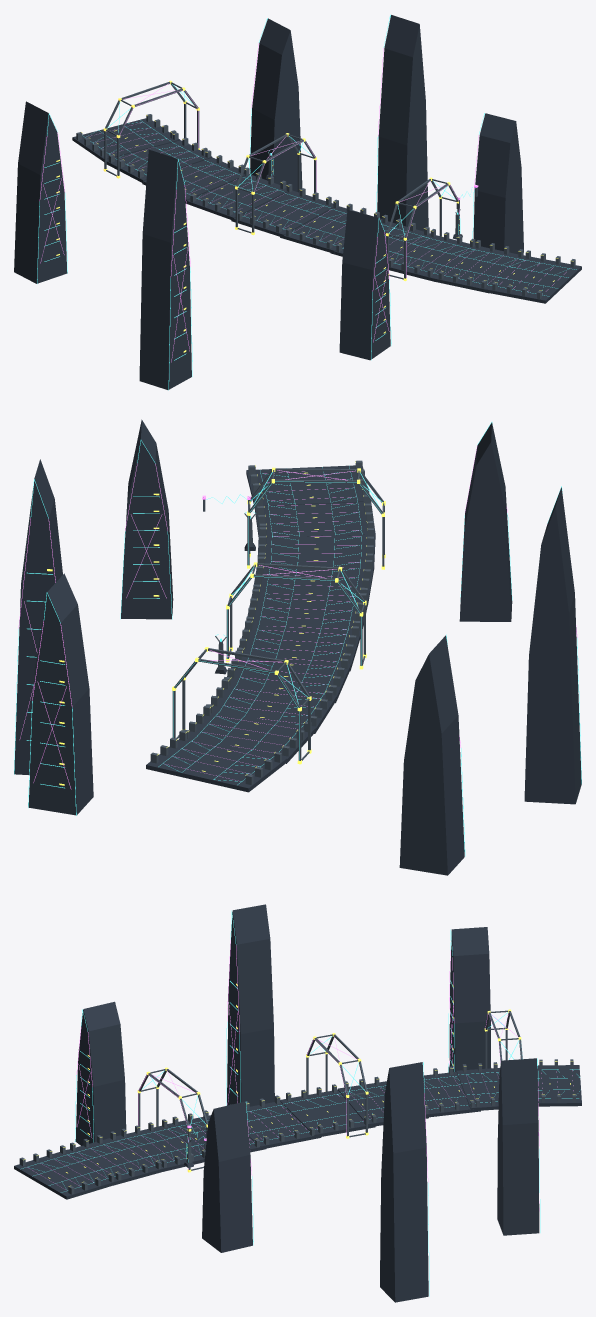
The model's file is route_batch_3.glb.
3 views of the same model, one above another, from view 1: azimuth 30°, elevation 25°; view 2: azimuth 150°, elevation 25°; view 3: azimuth 270°, elevation 25° (orthographic). The views are drawn at different scales.
Parts seen in each view (by area): view 1: route_batch_3; view 2: route_batch_3; view 3: route_batch_3.
Boxes of the visible parts, box(x1,y1,x2,y2) form: route_batch_3: box(14, 14, 581, 390); route_batch_3: box(14, 419, 581, 875); route_batch_3: box(14, 904, 581, 1302).
Bounding box in the file's own units: 512 × 292 × 657.
